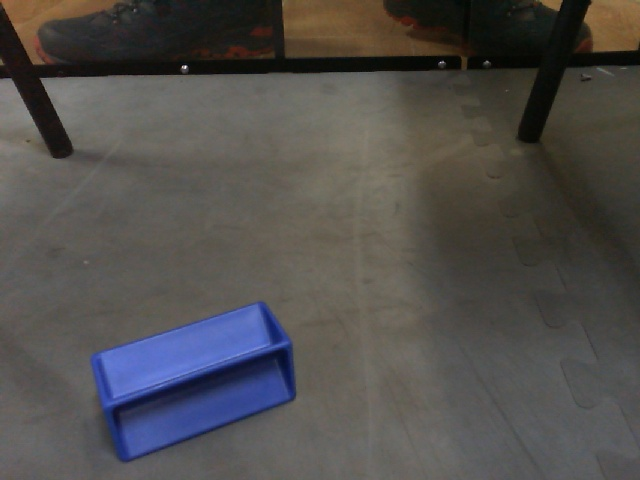BlueSample: (87, 297, 302, 465)
